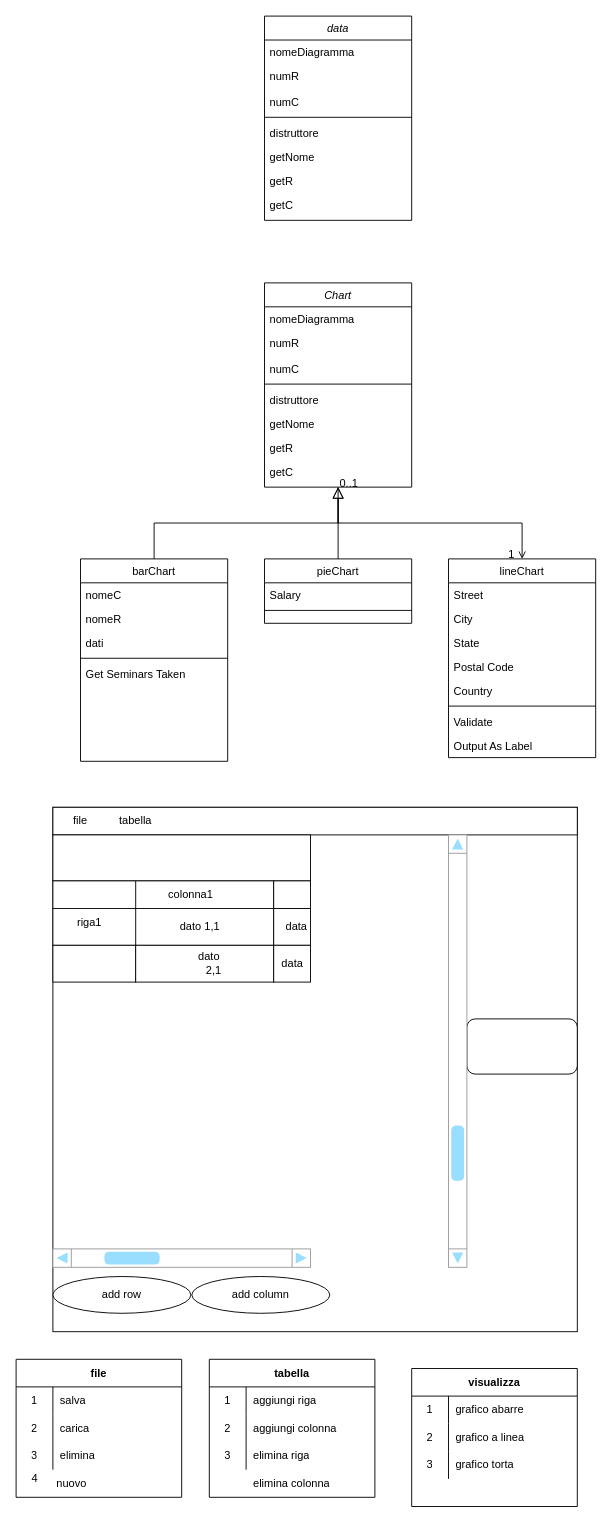
This 612x1523 diagram has some shape labels left out. Here are the shapes that lost their labels. From the top down, the centre of each, then its label:
At (181,857): "nome grafico".
At (291,894): "col".
At (94,963): "riga2".
At (521,1046): "scegli grafico".
